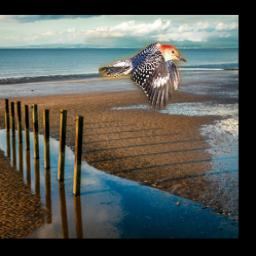Woodpecker: (99, 42, 187, 110)
